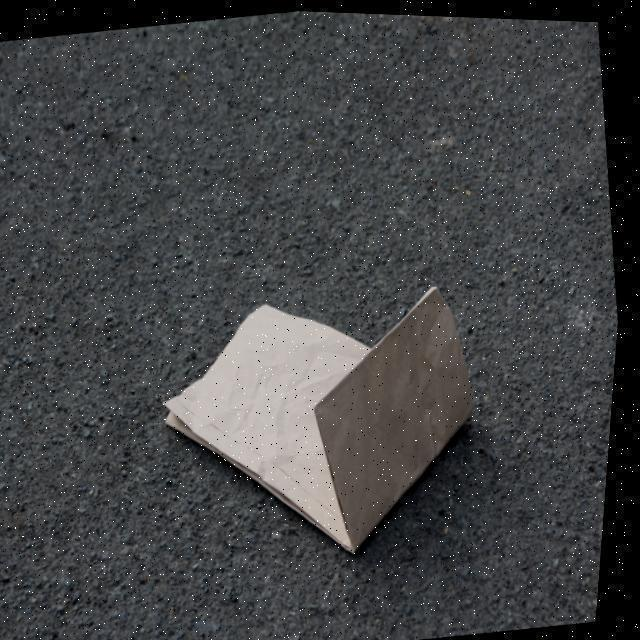Paper_Bag: (149, 270, 505, 578)
